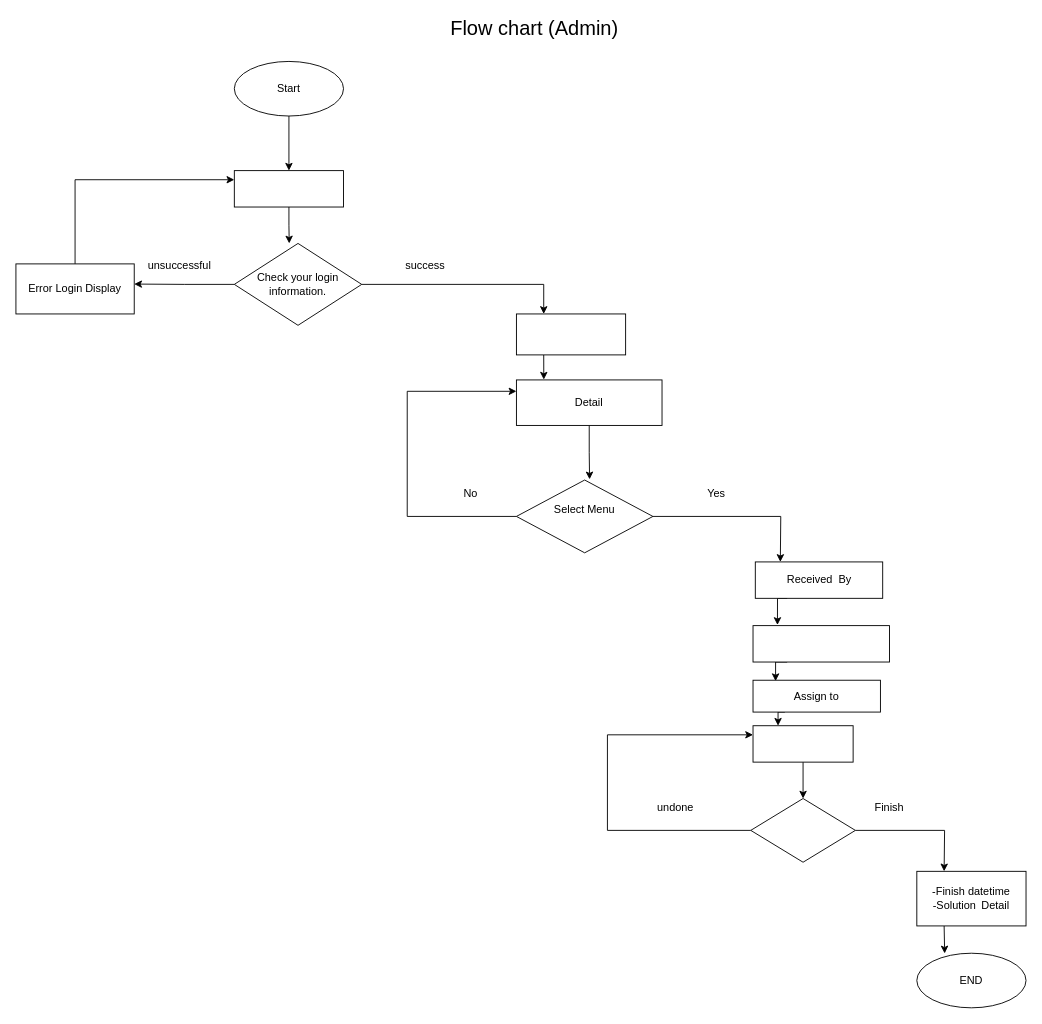
This 1042x1024 diagram has some shape labels left out. Here are the shapes that lost their labels. From the top down, the centre of each, then its label:
At point 288,188: "Log in".
At point 571,334: "Problem".
At point 821,643: "Issue Type".
At point 802,743: "Edit".
At point 802,830: "Status".
